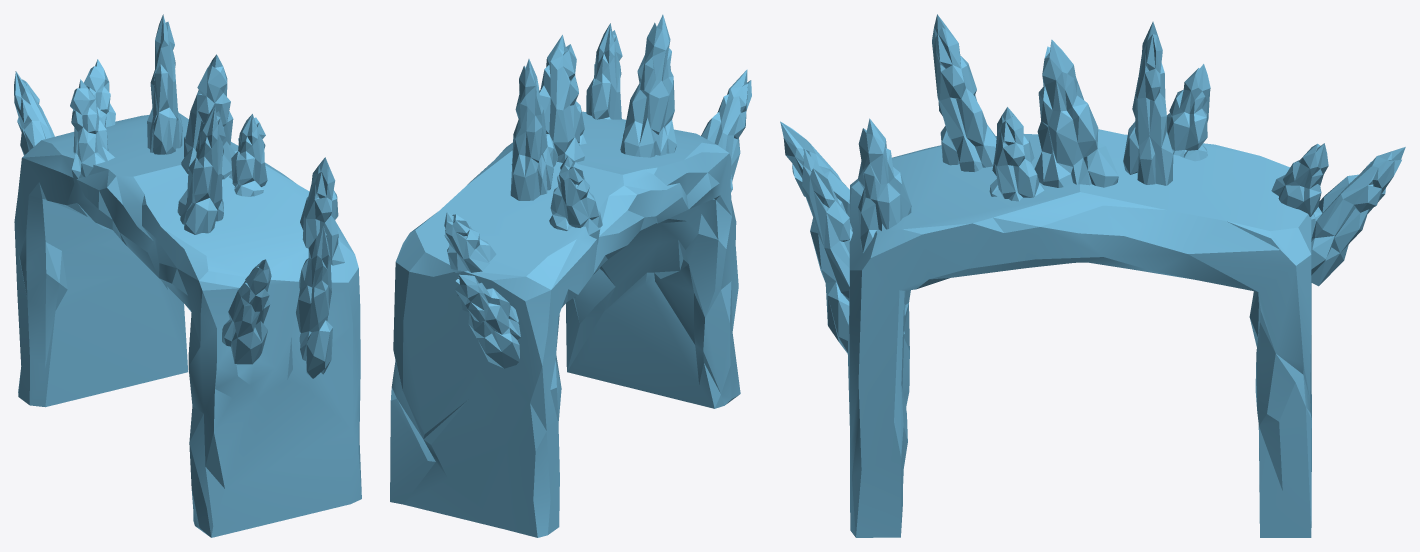
The model's file is obstacles777.fbx.
The picture shows the model from 3 angles, left to right: view 1: azimuth 30°, elevation 25°; view 2: azimuth 150°, elevation 25°; view 3: azimuth 270°, elevation 25°; orthographic projection. The views are drawn at different scales.
Visible parts, largest first — view 1: obstacle777; view 2: obstacle777; view 3: obstacle777.
Part boxes in pixels (box(x1,y1,x2,y2)): obstacle777: box(14, 14, 361, 537); obstacle777: box(390, 14, 751, 537); obstacle777: box(780, 14, 1405, 537).
Bounding box in the file's own units: 73.44 × 180 × 214.
